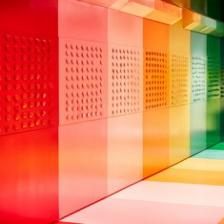orange: (144, 108, 170, 177), (144, 51, 169, 110), (146, 169, 224, 186), (144, 19, 170, 50)
